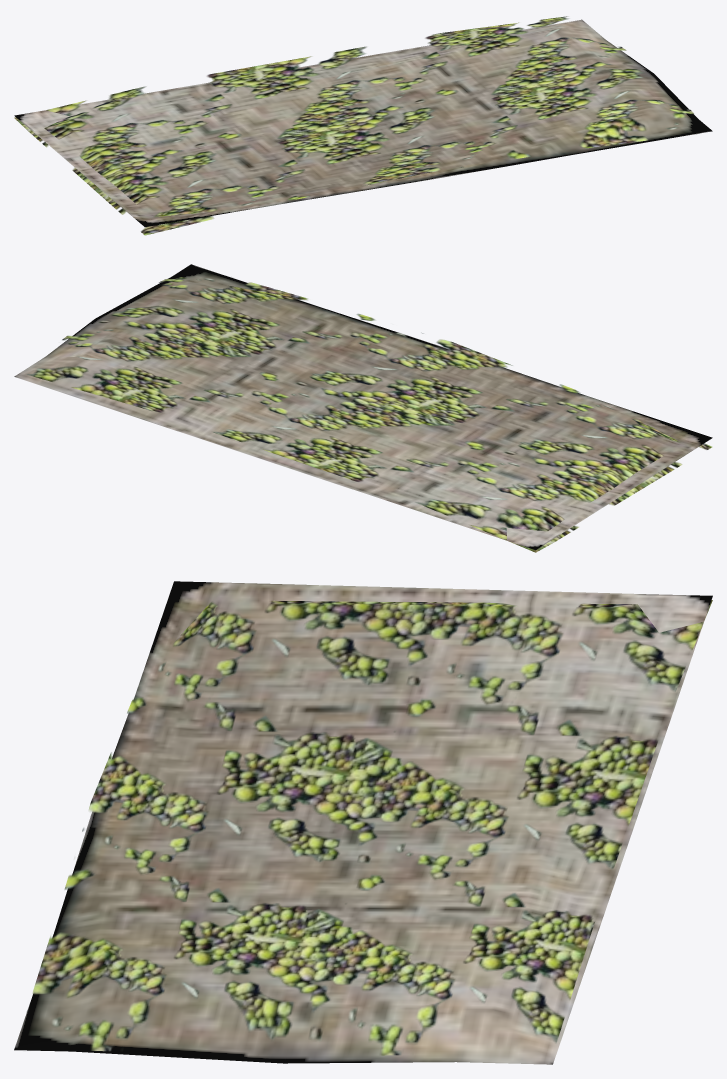
The picture shows the model from 3 angles, top to bottom: view 1: azimuth 30°, elevation 25°; view 2: azimuth 150°, elevation 25°; view 3: azimuth 270°, elevation 25°; orthographic projection. The views are drawn at different scales.
Parts seen in each view (by area): view 1: chamberhearthbeds.002, olives; view 2: chamberhearthbeds.002, olives; view 3: chamberhearthbeds.002, olives.
Boxes of the visible parts, box(x1,y1,x2,y2) form: chamberhearthbeds.002: box(14, 19, 712, 226); olives: box(14, 16, 699, 235); chamberhearthbeds.002: box(14, 264, 712, 550); olives: box(26, 277, 712, 552); chamberhearthbeds.002: box(14, 581, 712, 1064); olives: box(27, 600, 712, 1055).
Bounding box in the file's own units: 0.1534 × 0.00625 × 0.0938.
2 materials, 2 textured.
